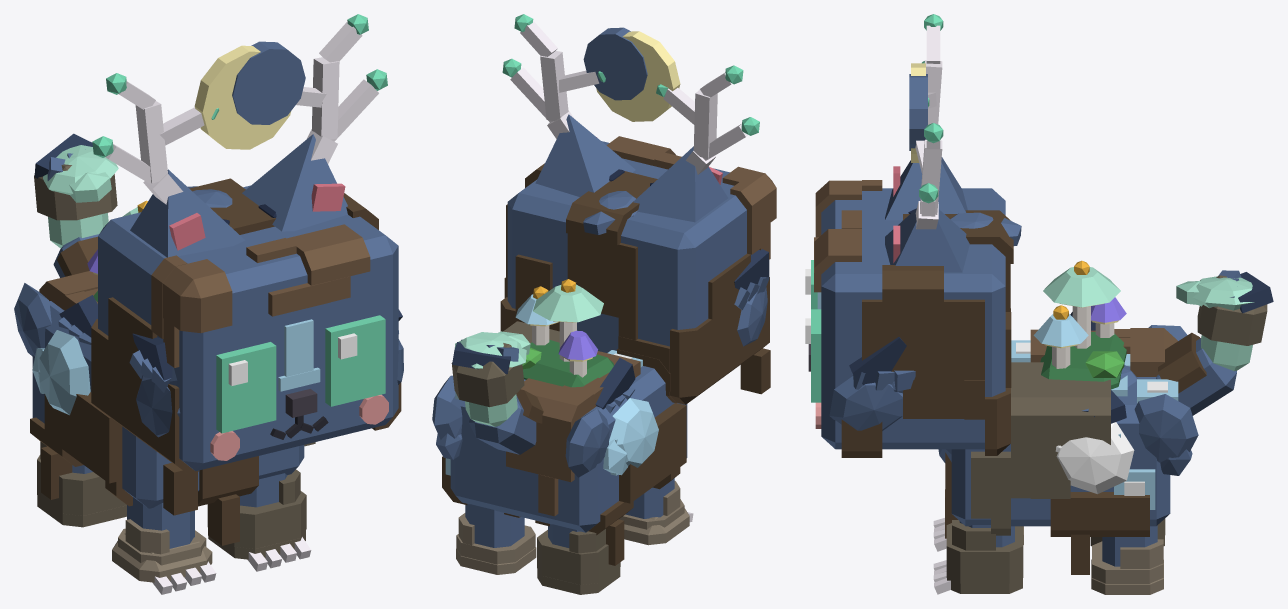
File: CleanACat_Cat_Moonstag_Dirty.fbx
3 views of the same model, side by side, from view 1: azimuth 30°, elevation 25°; view 2: azimuth 150°, elevation 25°; view 3: azimuth 270°, elevation 25° (orthographic). The views are drawn at different scales.
Parts seen in each view (by area): view 1: CleanACat_Cat_Moonstag_Dirty_Head, CleanACat_Cat_Moonstag_Dirty_Prop, CleanACat_Cat_Moonstag_Dirty_Mud01, CleanACat_Cat_Moonstag_Dirty_Mud03, CleanACat_Cat_Moonstag_Dirty_Mud06, CleanACat_Cat_Moonstag_Dirty_EarL, CleanACat_Cat_Moonstag_Dirty_Body, CleanACat_Cat_Moonstag_Dirty_EarR, CleanACat_Cat_Moonstag_Dirty_Eye1, CleanACat_Cat_Moonstag_Dirty_Eye2, CleanACat_Cat_Moonstag_Dirty_Mud10, CleanACat_Cat_Moonstag_Dirty_Mud15 (+21 smaller); view 2: CleanACat_Cat_Moonstag_Dirty_Head, CleanACat_Cat_Moonstag_Dirty_Prop, CleanACat_Cat_Moonstag_Dirty_Body, CleanACat_Cat_Moonstag_Dirty_Mud01, CleanACat_Cat_Moonstag_Dirty_Mud04, CleanACat_Cat_Moonstag_Dirty_Prop2, CleanACat_Cat_Moonstag_Dirty_Mud09, CleanACat_Cat_Moonstag_Dirty_EarL, CleanACat_Cat_Moonstag_Dirty_Mud18, CleanACat_Cat_Moonstag_Dirty_Mud10, CleanACat_Cat_Moonstag_Dirty_EarR, CleanACat_Cat_Moonstag_Dirty_Fluff06 (+22 smaller); view 3: CleanACat_Cat_Moonstag_Dirty_Head, CleanACat_Cat_Moonstag_Dirty_Mud02, CleanACat_Cat_Moonstag_Dirty_Mud08, CleanACat_Cat_Moonstag_Dirty_Prop2, CleanACat_Cat_Moonstag_Dirty_Body, CleanACat_Cat_Moonstag_Dirty_Mud11, CleanACat_Cat_Moonstag_Dirty_Mud15, CleanACat_Cat_Moonstag_Dirty_Prop, CleanACat_Cat_Moonstag_Dirty_EarL, CleanACat_Cat_Moonstag_Dirty_Fluff09, CleanACat_Cat_Moonstag_Dirty_Fluff05, CleanACat_Cat_Moonstag_Dirty_Mud17 (+18 smaller).
Boxes of the visible parts, bbox=[...] form: CleanACat_Cat_Moonstag_Dirty_Head: bbox=[98, 185, 398, 471]; CleanACat_Cat_Moonstag_Dirty_Prop: bbox=[105, 22, 378, 224]; CleanACat_Cat_Moonstag_Dirty_Mud01: bbox=[91, 297, 198, 515]; CleanACat_Cat_Moonstag_Dirty_Mud03: bbox=[246, 224, 370, 316]; CleanACat_Cat_Moonstag_Dirty_Mud06: bbox=[151, 255, 232, 367]; CleanACat_Cat_Moonstag_Dirty_EarL: bbox=[242, 134, 347, 231]; CleanACat_Cat_Moonstag_Dirty_Body: bbox=[32, 301, 304, 508]; CleanACat_Cat_Moonstag_Dirty_EarR: bbox=[130, 169, 245, 257]; CleanACat_Cat_Moonstag_Dirty_Eye1: bbox=[325, 315, 385, 406]; CleanACat_Cat_Moonstag_Dirty_Eye2: bbox=[216, 342, 276, 433]; CleanACat_Cat_Moonstag_Dirty_Mud10: bbox=[44, 392, 132, 506]; CleanACat_Cat_Moonstag_Dirty_Mud15: bbox=[207, 469, 306, 559]; CleanACat_Cat_Moonstag_Dirty_Head: bbox=[507, 141, 751, 352]; CleanACat_Cat_Moonstag_Dirty_Prop: bbox=[510, 21, 748, 185]; CleanACat_Cat_Moonstag_Dirty_Body: bbox=[445, 350, 687, 532]; CleanACat_Cat_Moonstag_Dirty_Mud01: bbox=[618, 253, 770, 404]; CleanACat_Cat_Moonstag_Dirty_Mud04: bbox=[566, 171, 657, 340]; CleanACat_Cat_Moonstag_Dirty_Prop2: bbox=[515, 284, 614, 387]; CleanACat_Cat_Moonstag_Dirty_Mud09: bbox=[506, 378, 593, 516]; CleanACat_Cat_Moonstag_Dirty_EarL: bbox=[535, 114, 635, 196]; CleanACat_Cat_Moonstag_Dirty_Mud18: bbox=[537, 529, 620, 594]; CleanACat_Cat_Moonstag_Dirty_Mud10: bbox=[617, 349, 686, 503]; CleanACat_Cat_Moonstag_Dirty_EarR: bbox=[633, 146, 727, 222]; CleanACat_Cat_Moonstag_Dirty_Fluff06: bbox=[603, 398, 658, 475]; CleanACat_Cat_Moonstag_Dirty_Head: bbox=[808, 188, 1005, 449]; CleanACat_Cat_Moonstag_Dirty_Mud02: bbox=[841, 265, 984, 457]; CleanACat_Cat_Moonstag_Dirty_Mud08: bbox=[1011, 362, 1110, 498]; CleanACat_Cat_Moonstag_Dirty_Prop2: bbox=[1033, 267, 1126, 389]; CleanACat_Cat_Moonstag_Dirty_Body: bbox=[951, 340, 1178, 526]; CleanACat_Cat_Moonstag_Dirty_Mud11: bbox=[1050, 492, 1149, 574]; CleanACat_Cat_Moonstag_Dirty_Mud15: bbox=[946, 520, 1023, 593]; CleanACat_Cat_Moonstag_Dirty_Prop: bbox=[908, 25, 942, 229]; CleanACat_Cat_Moonstag_Dirty_EarL: bbox=[885, 208, 969, 272]; CleanACat_Cat_Moonstag_Dirty_Fluff09: bbox=[1134, 394, 1198, 475]; CleanACat_Cat_Moonstag_Dirty_Fluff05: bbox=[1055, 422, 1134, 494]; CleanACat_Cat_Moonstag_Dirty_Mud17: bbox=[1091, 539, 1163, 594].
Size of the model in its own units: 1.36 by 2.37 by 2.03.
1 material, 1 textured.
